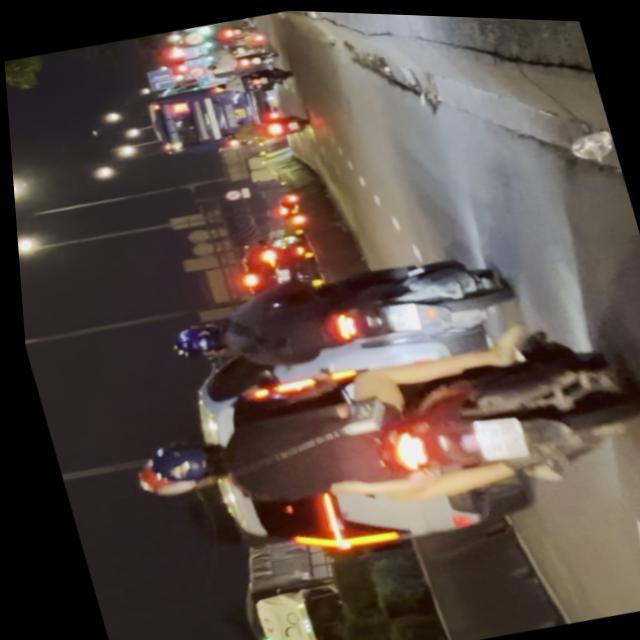helmet: (120, 432, 225, 503), (164, 318, 227, 363)
licenseplate: (90, 281, 640, 588), (150, 227, 521, 403)
nohelmet: (463, 409, 522, 463), (378, 299, 417, 333)
